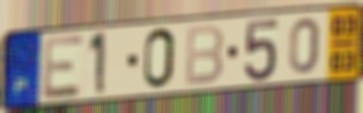0: (142, 26, 177, 91), (287, 16, 323, 78)
1: (86, 29, 109, 98)
5: (242, 16, 281, 83)
B: (183, 23, 226, 89)
E: (41, 32, 86, 102)
